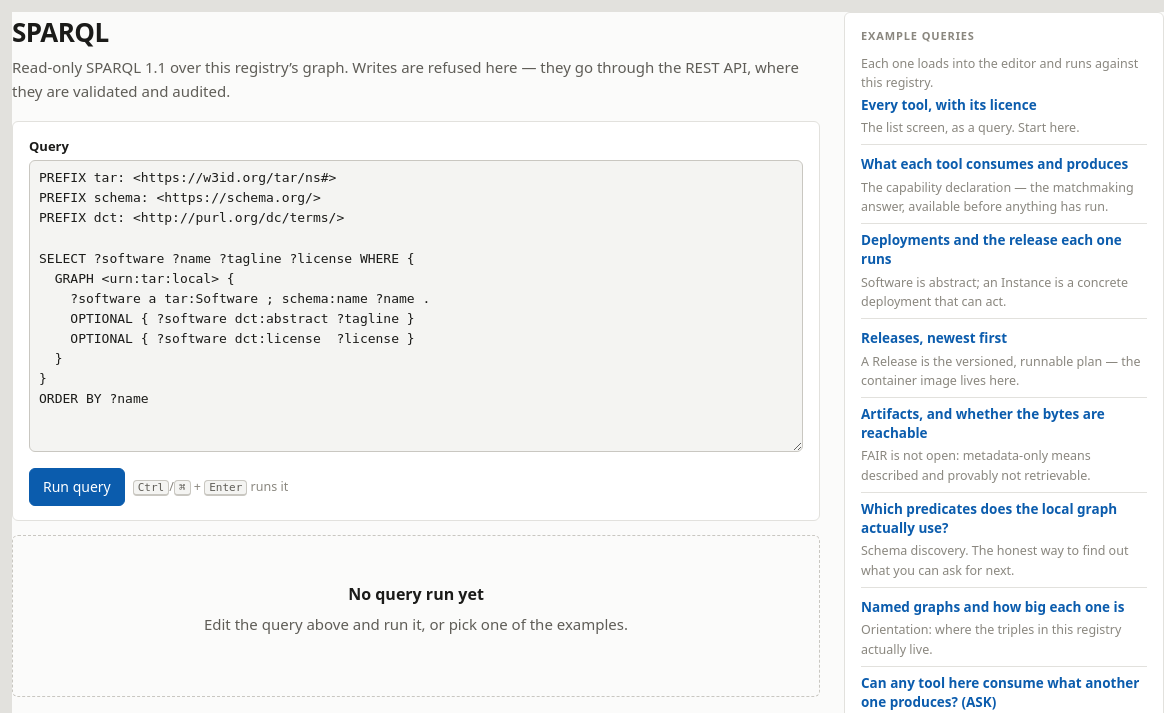
Test case: Sparql › caps what it renders and says so, instead of locking the browser
The width and height of the screenshot is (1164, 713).
Click the button "Run query": [77, 487] box [29,468,125,506]
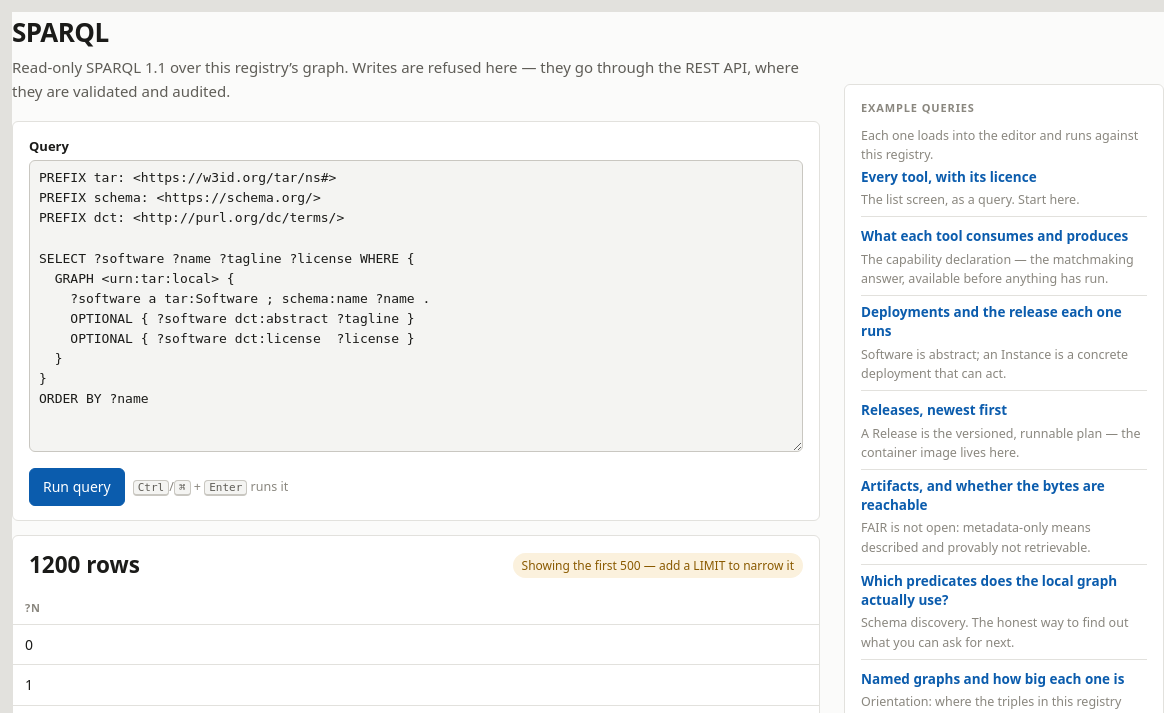
Result: the heading "1200 rows" is shown at [29,548,140,583]
Result: the text "Showing the first 500 — add a LIMIT to narrow it" is shown at [513,553,803,578]
Result: the number of rows is 501
